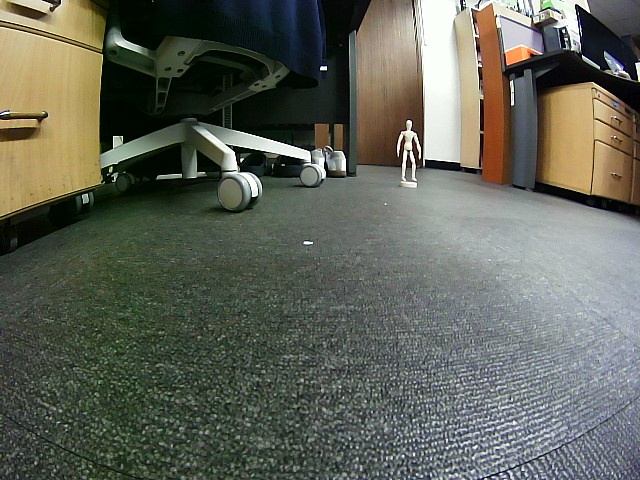person: (396, 119, 421, 183)
